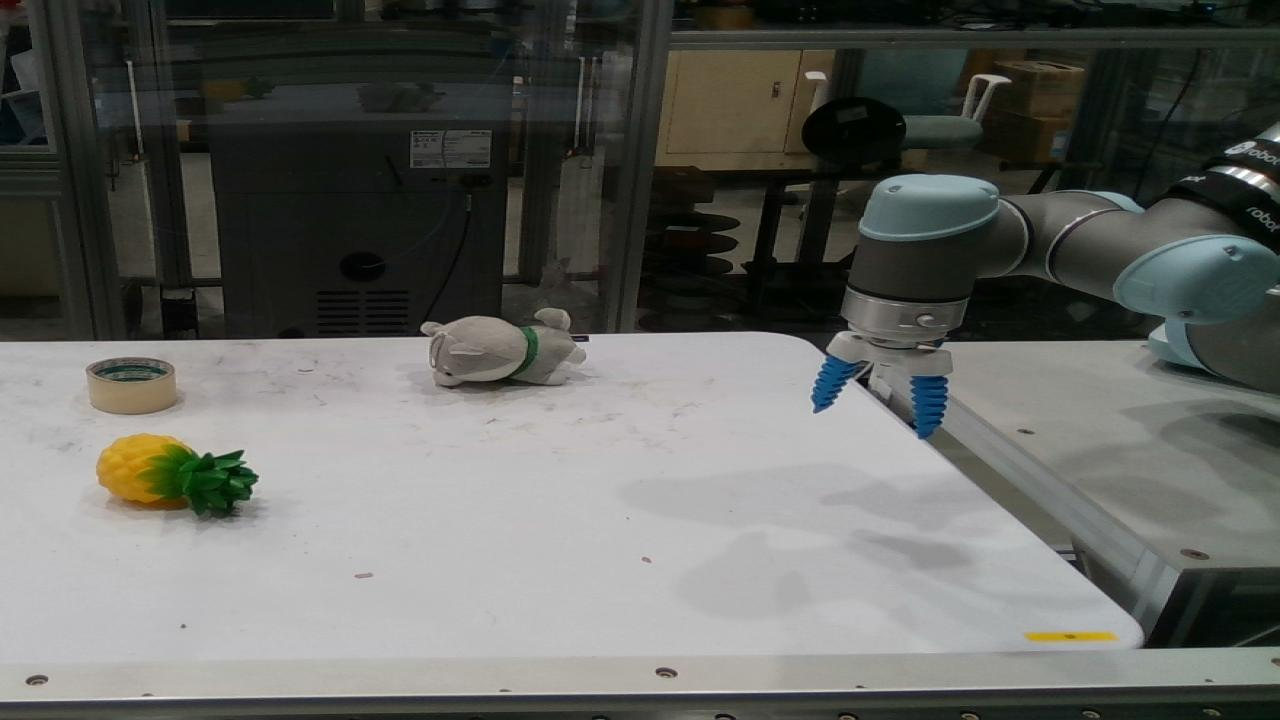UR5: (838, 129, 1278, 387)
gripper_left: (814, 359, 854, 410)
gripper_right: (912, 377, 946, 435)
target: (98, 435, 254, 514), (424, 309, 582, 386), (88, 358, 172, 413)
